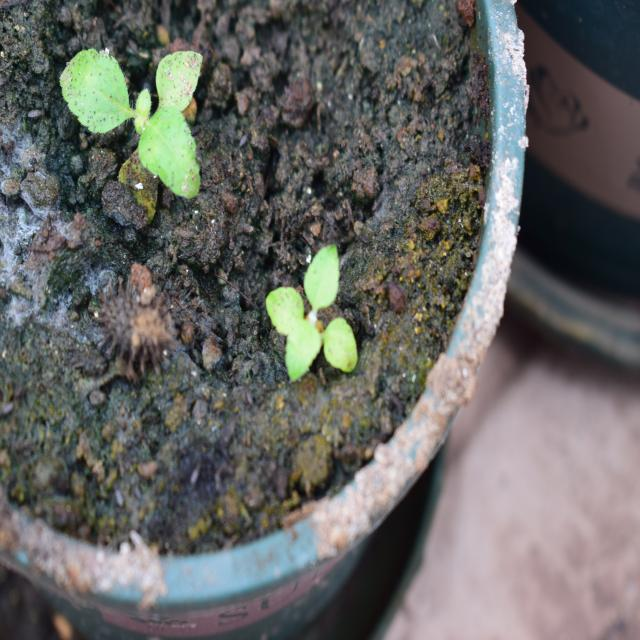billygoat_weed: (38, 36, 213, 198)
